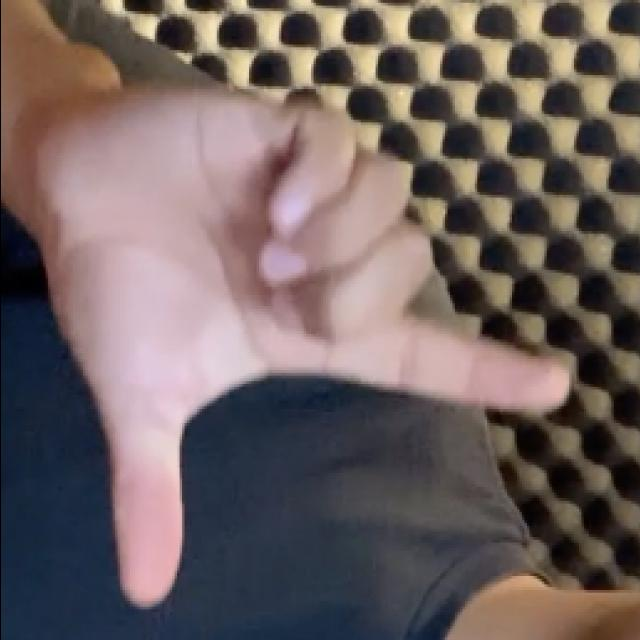LL: (24, 77, 578, 612)
